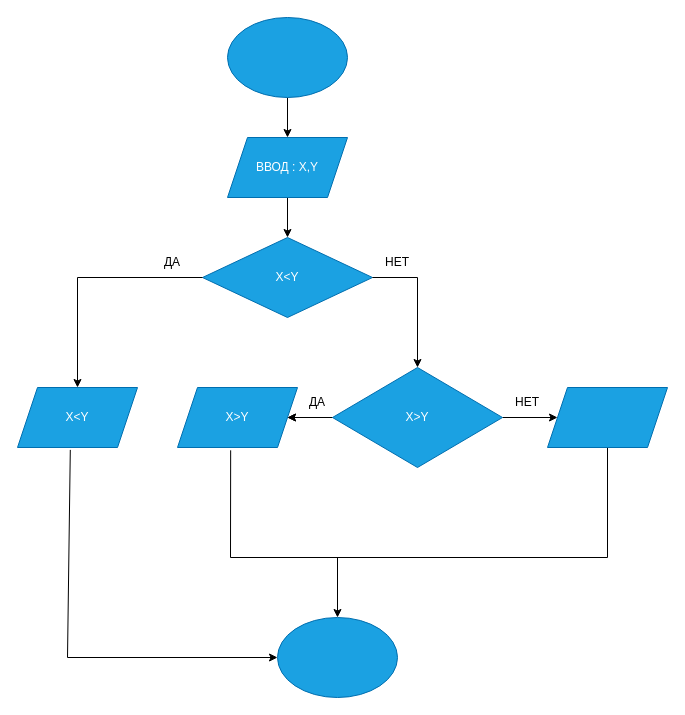
Image size: 685x715. Some labels were removed from this diagram. Here are the shapes that lost their labels. From the top down, the centre of each, then its label:
At (287,57): "НАЧАЛО".
At (607,417): "X=Y".
At (337,657): "КОНЕЦ".
